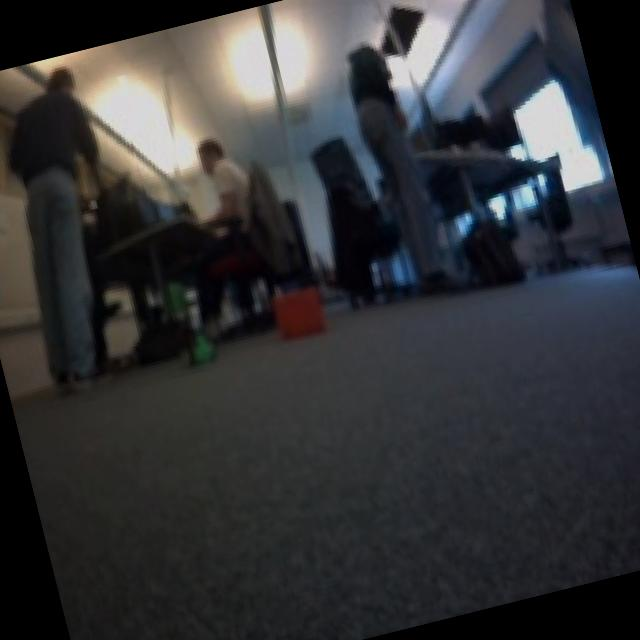robot: (170, 320, 223, 370)
target: (266, 280, 328, 342)
